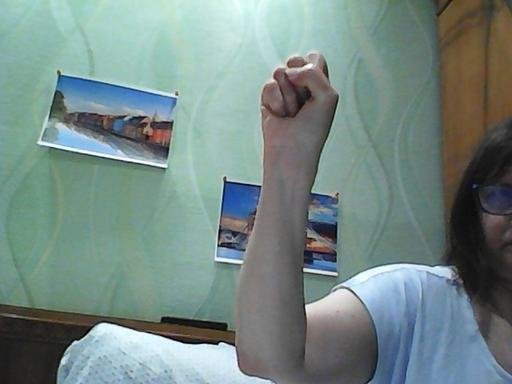fist: (254, 48, 346, 169)
